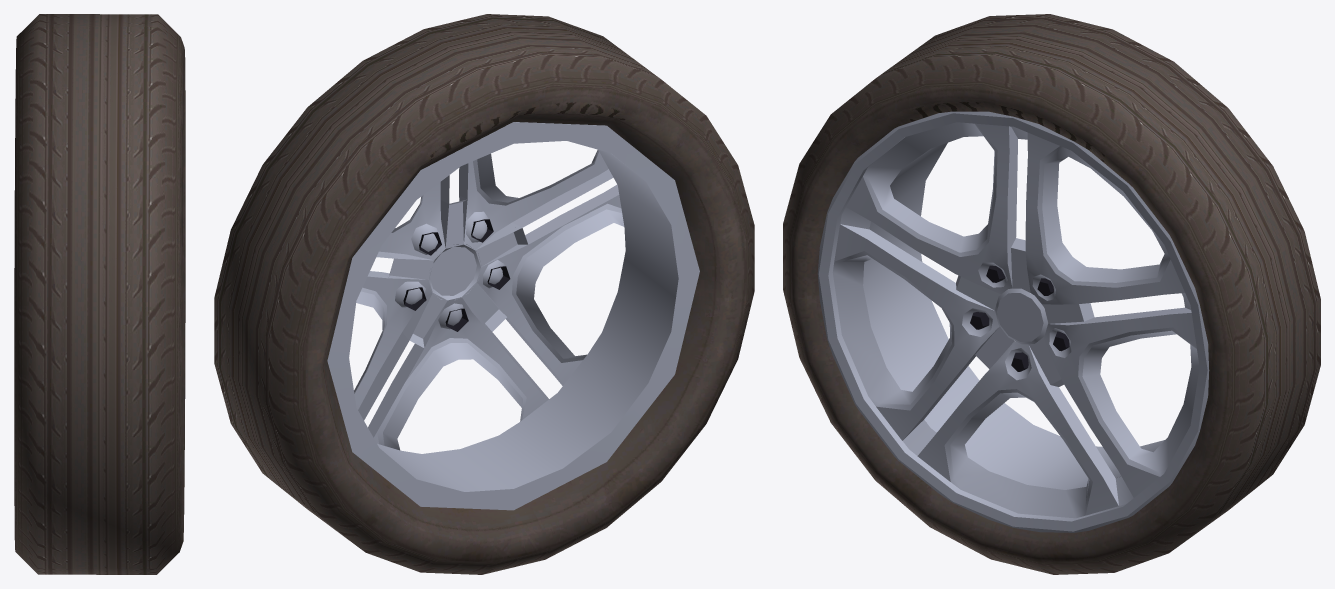
File: Wheel.fbx
3 views of the same model, side by side, from view 1: azimuth 30°, elevation 25°; view 2: azimuth 150°, elevation 25°; view 3: azimuth 270°, elevation 25° (orthographic).
Parts seen in each view (by area): view 1: node_id36, node_id34; view 2: node_id32, node_id36, node_id34; view 3: node_id32, node_id36, node_id34.
Boxes of the visible parts, x1,y1,x2,y2 form: node_id36: (14, 14, 180, 574); node_id34: (178, 38, 185, 551); node_id32: (327, 122, 699, 510); node_id36: (214, 14, 754, 574); node_id34: (303, 86, 746, 562); node_id32: (817, 111, 1209, 532); node_id36: (783, 14, 1320, 574); node_id34: (791, 86, 1230, 562).
Bounding box in the file's own units: 0.3684 × 0.512 × 0.4969.
3 materials, 3 textured.
